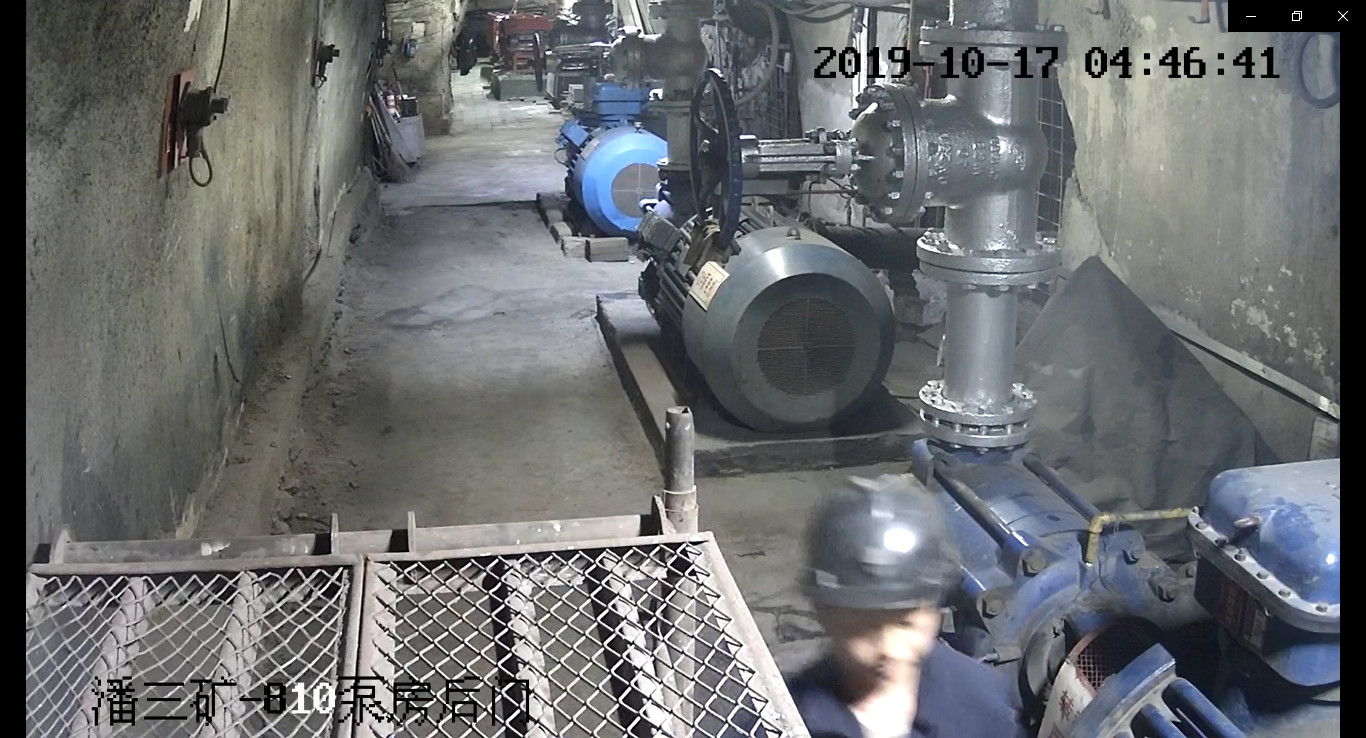helmet: (790, 472, 963, 610)
